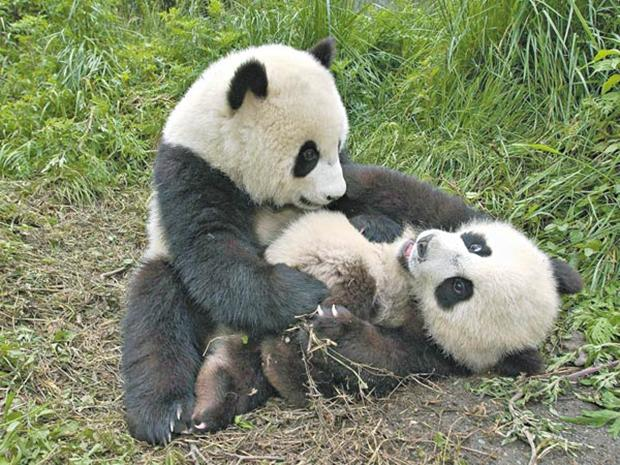animal: (106, 50, 378, 433), (272, 172, 582, 385)
